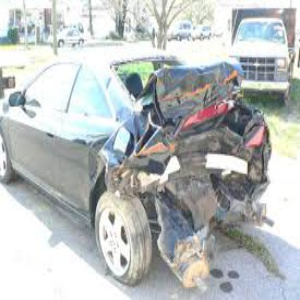bonnet: (152, 56, 253, 127)
bumper: (148, 186, 268, 257)
